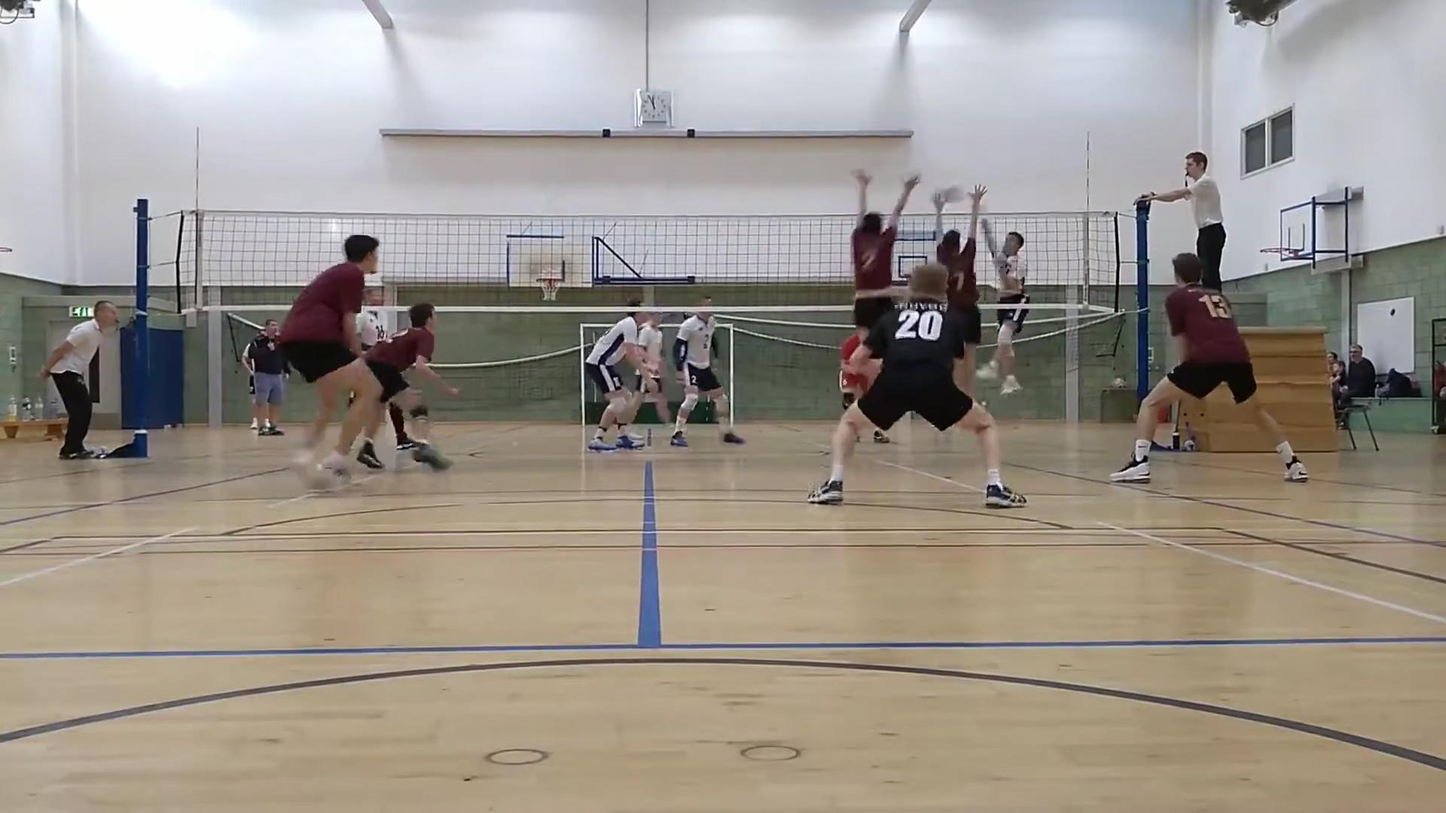Attack: (980, 194, 1035, 409)
Block: (927, 169, 985, 410), (844, 157, 920, 309)
Player: (808, 264, 1026, 507), (1111, 253, 1307, 483), (280, 235, 379, 486), (358, 303, 457, 470), (670, 296, 743, 446), (584, 298, 645, 451), (630, 312, 671, 423), (839, 328, 878, 410), (357, 286, 392, 352)
